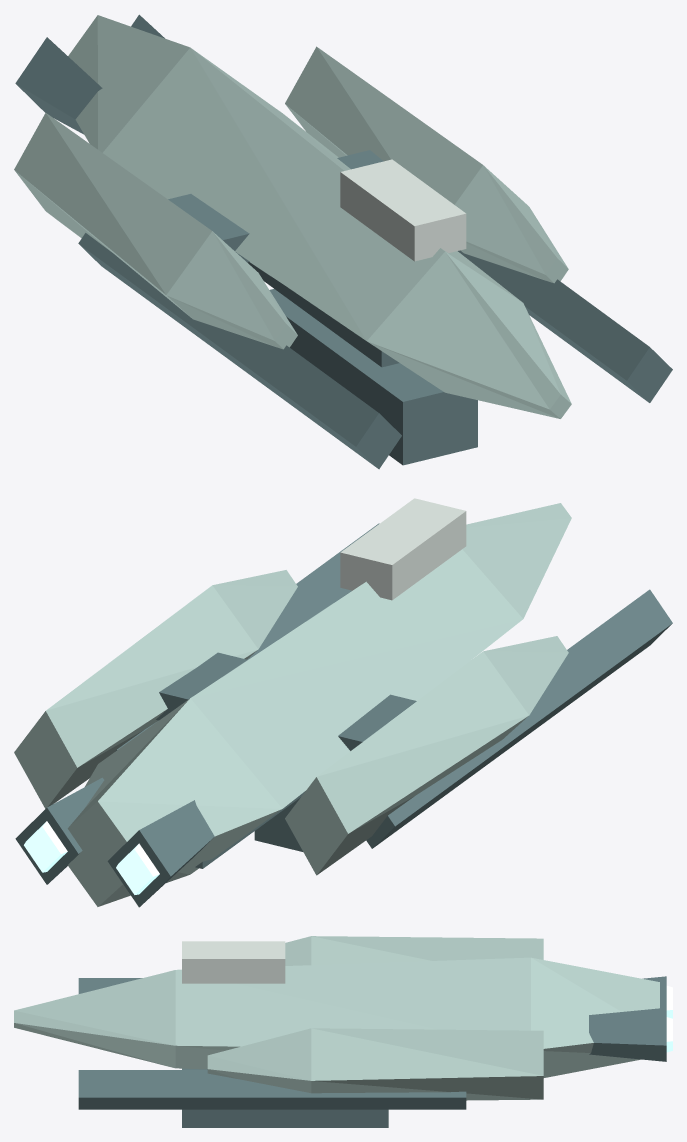
The picture shows the model from 3 angles, top to bottom: view 1: azimuth 30°, elevation 25°; view 2: azimuth 150°, elevation 25°; view 3: azimuth 270°, elevation 25°; orthographic projection. The views are drawn at different scales.
Bounding box in the file's own units: 2.22 × 1.38 × 5.
